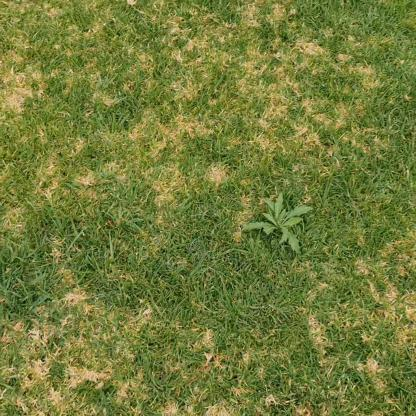Weeds: (242, 193, 313, 255)
